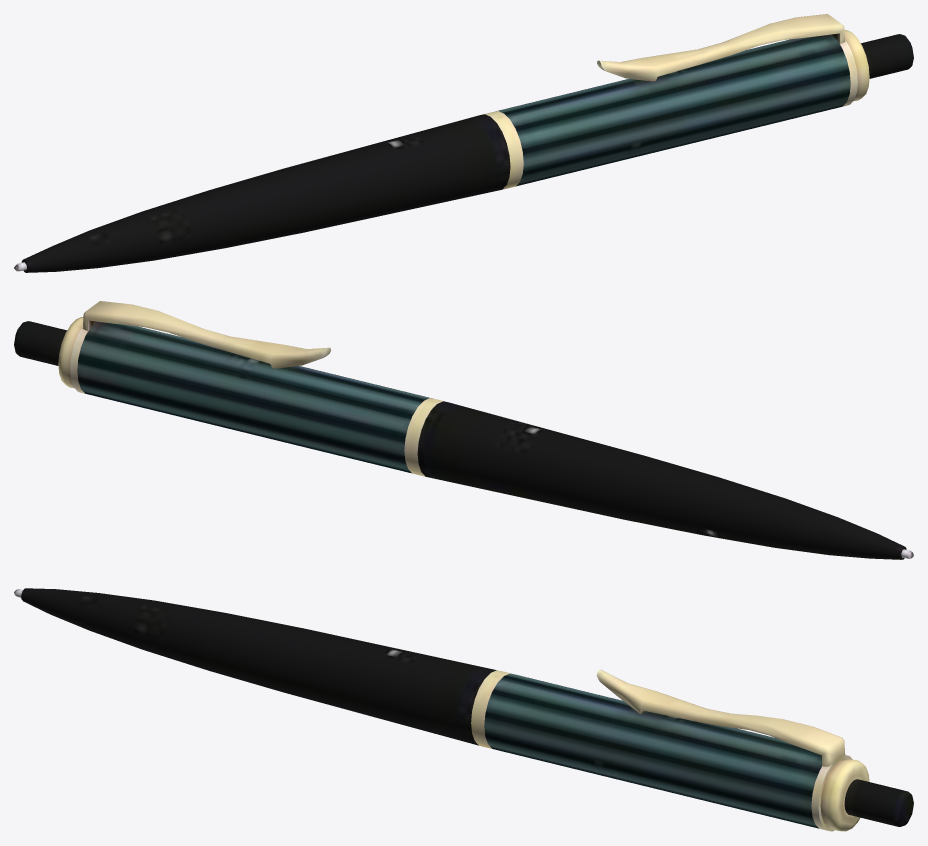
Rendered from caneta.glb.
The picture shows the model from 3 angles, top to bottom: view 1: azimuth 30°, elevation 25°; view 2: azimuth 150°, elevation 25°; view 3: azimuth 330°, elevation 25°; orthographic projection.
Parts seen in each view (by area): view 1: stationery_supplies_pen_fancy; view 2: stationery_supplies_pen_fancy; view 3: stationery_supplies_pen_fancy.
Part boxes in pixels (x1=…): stationery_supplies_pen_fancy: x1=14, y1=14, x2=913, y2=272; stationery_supplies_pen_fancy: x1=14, y1=301, x2=913, y2=559; stationery_supplies_pen_fancy: x1=14, y1=588, x2=913, y2=831.
Bounding box in the file's own units: 0.1313 × 0.0142 × 0.01.
Materials: 1 (1 with a texture image).
